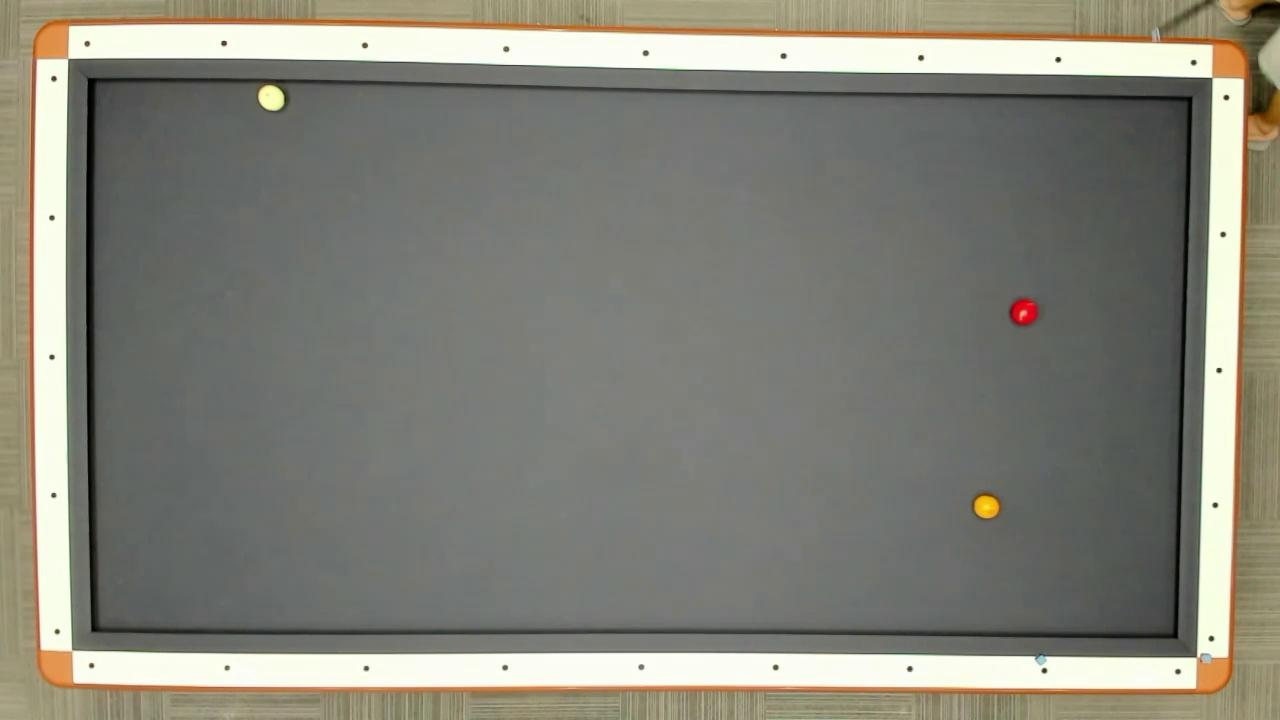Red: (1007, 296, 1042, 328)
White: (255, 83, 288, 114)
Yellow: (972, 492, 1002, 523)
